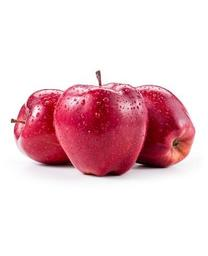apple: (54, 71, 147, 175), (135, 84, 195, 167), (10, 88, 71, 166)
